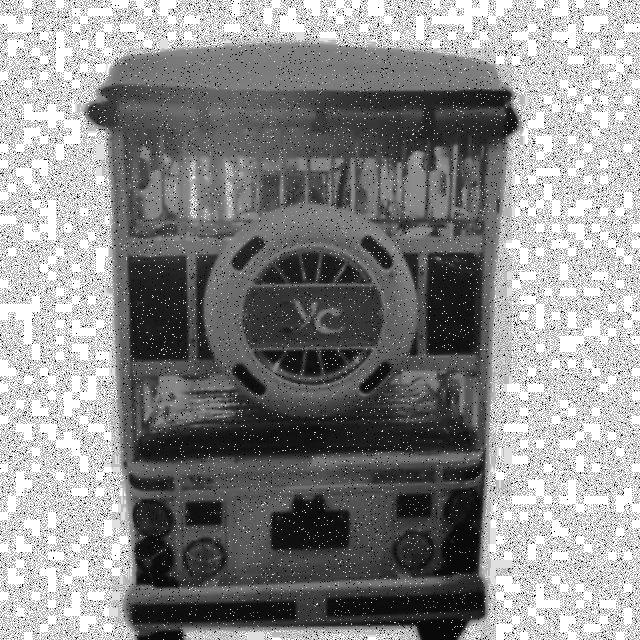Toto: (89, 18, 517, 640)
